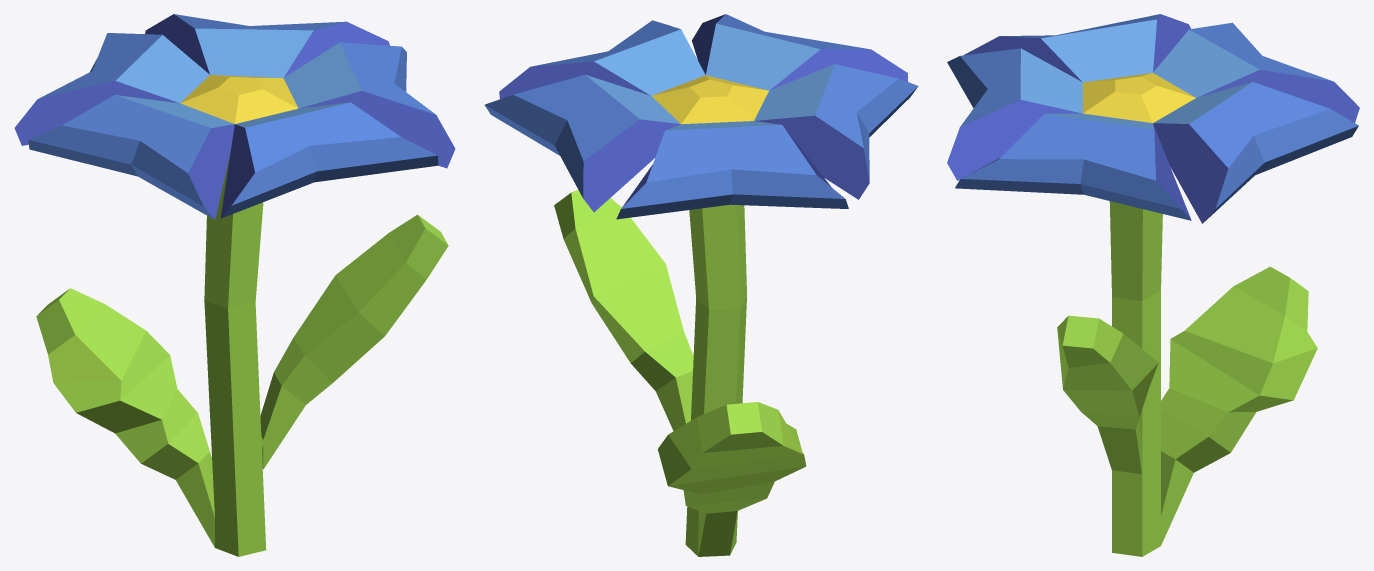
Rendered from flower_blue_detail.fbx.
The picture shows the model from 3 angles, left to right: view 1: azimuth 30°, elevation 25°; view 2: azimuth 150°, elevation 25°; view 3: azimuth 270°, elevation 25°; orthographic projection.
Visible parts, largest first — view 1: flower_blue; view 2: flower_blue; view 3: flower_blue.
Part boxes in pixels (x1,y1,x2,y2): flower_blue: (14, 14, 455, 556); flower_blue: (484, 14, 918, 556); flower_blue: (947, 14, 1359, 556).
Bounding box in the file's own units: 25.51 × 30.62 × 24.28.
